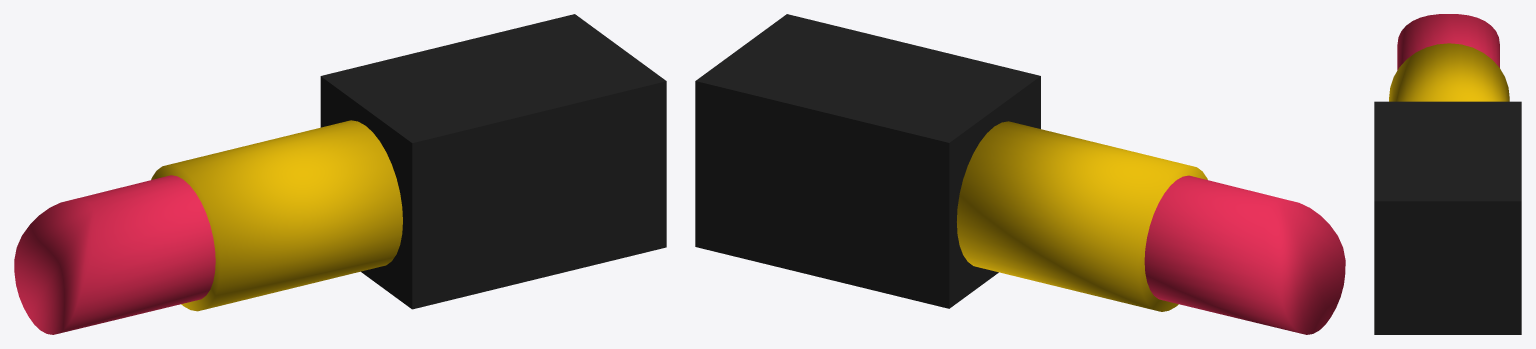
3 views of the same model, side by side, from view 1: azimuth 30°, elevation 25°; view 2: azimuth 150°, elevation 25°; view 3: azimuth 270°, elevation 25° (orthographic). The views are drawn at different scales.
Parts seen in each view (by area): view 1: Cube, Cylinder, Cylinder.001; view 2: Cube, Cylinder, Cylinder.001; view 3: Cube, Cylinder, Cylinder.001.
Part boxes in pixels (bbox=[...]): Cube: bbox=[320, 14, 666, 309]; Cylinder: bbox=[151, 120, 402, 311]; Cylinder.001: bbox=[14, 175, 215, 334]; Cube: bbox=[695, 14, 1040, 308]; Cylinder: bbox=[957, 121, 1207, 311]; Cylinder.001: bbox=[1144, 175, 1345, 334]; Cube: bbox=[1374, 101, 1521, 334]; Cylinder: bbox=[1389, 43, 1509, 101]; Cylinder.001: bbox=[1397, 14, 1499, 70].
Size of the model in its own units: 743 by 204 by 204.
